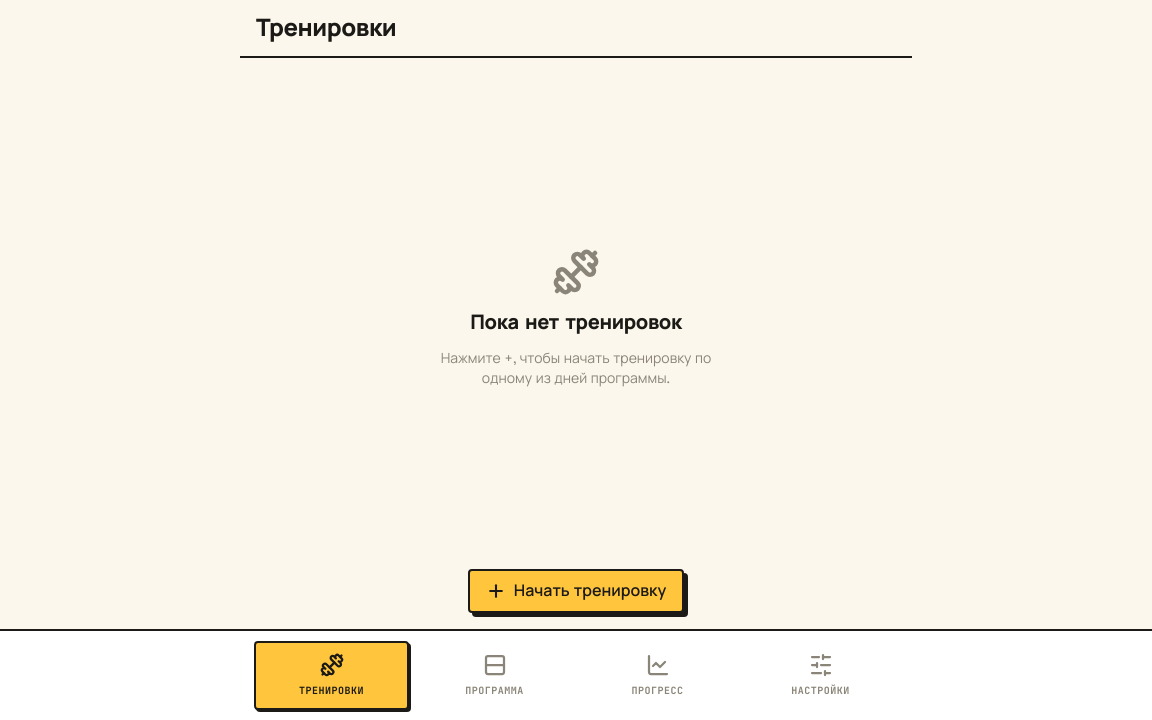
Test: Inline workout loop › reopening a finished workout offers Continue instead of Finish
Click the button "Начать тренировку" at (576, 591), box [468,569,684,613]
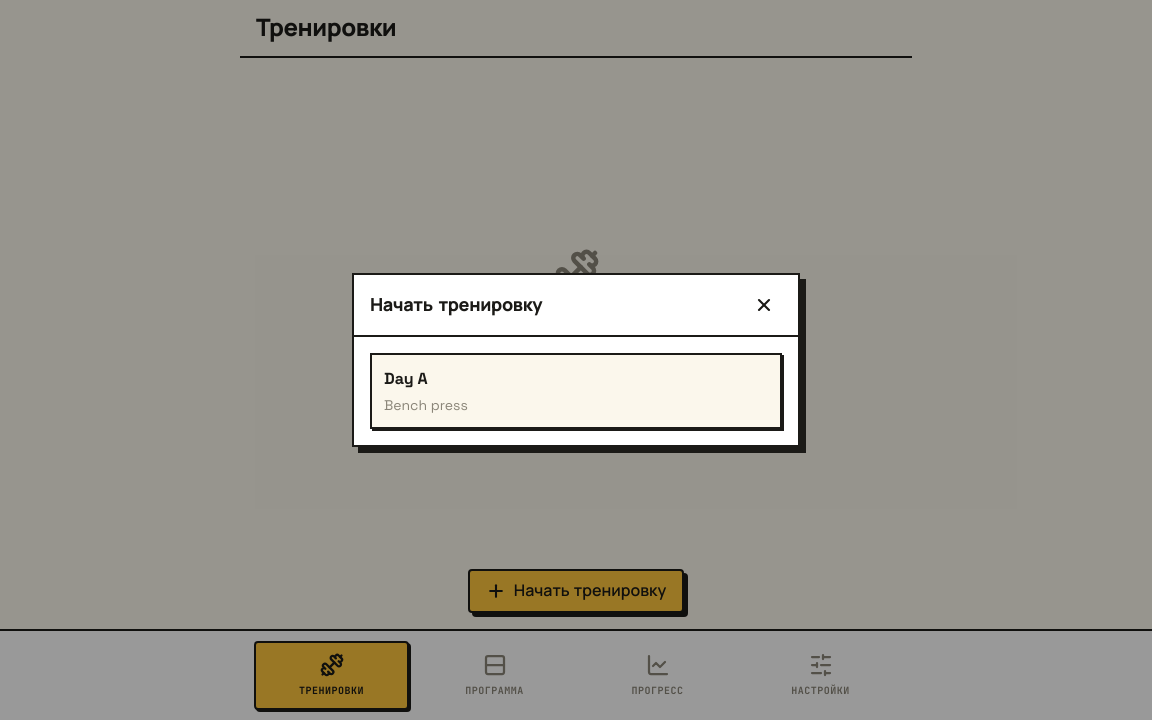
Click the button "Day A Bench press" at (406, 378), box [370,353,782,429]
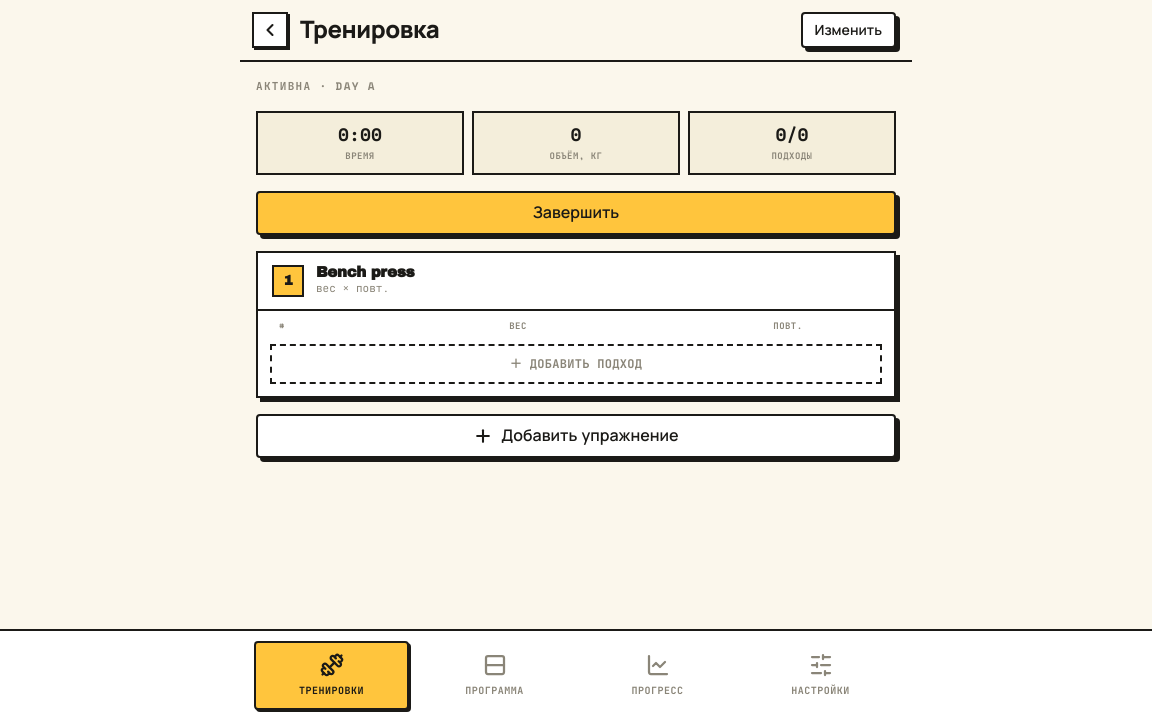
Click the button "Завершить" at (576, 212), box [256,190,896,234]
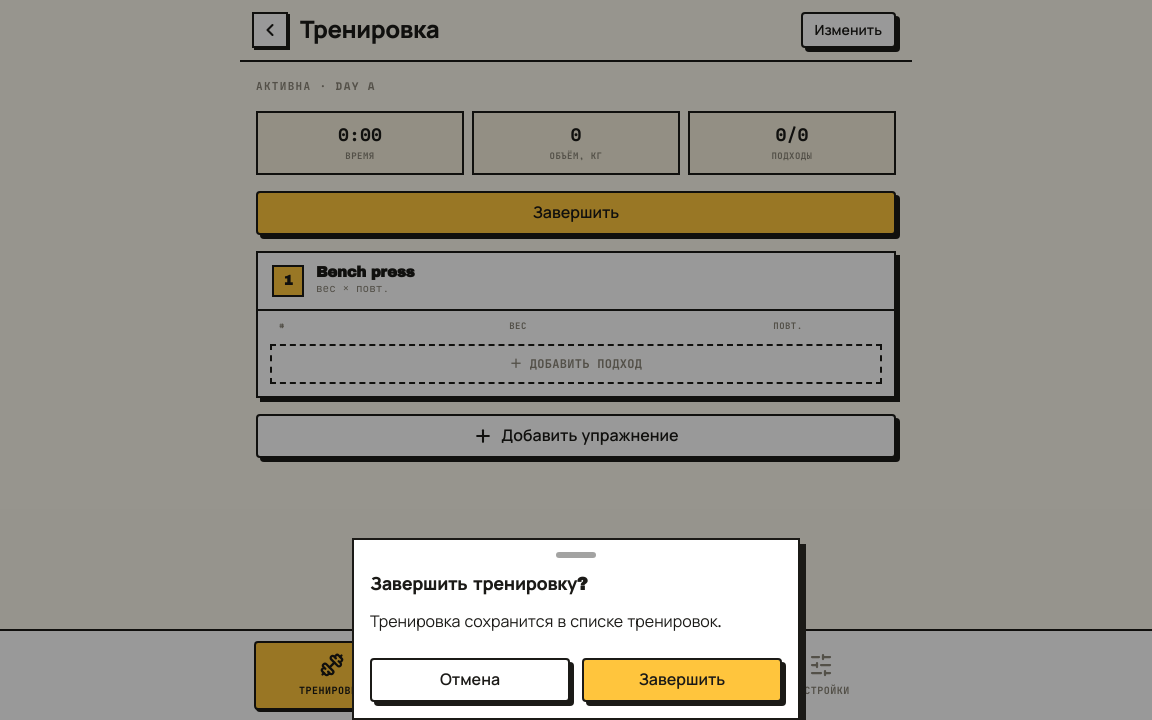
Click the button "Завершить" at (682, 680), box [582,658,782,702]
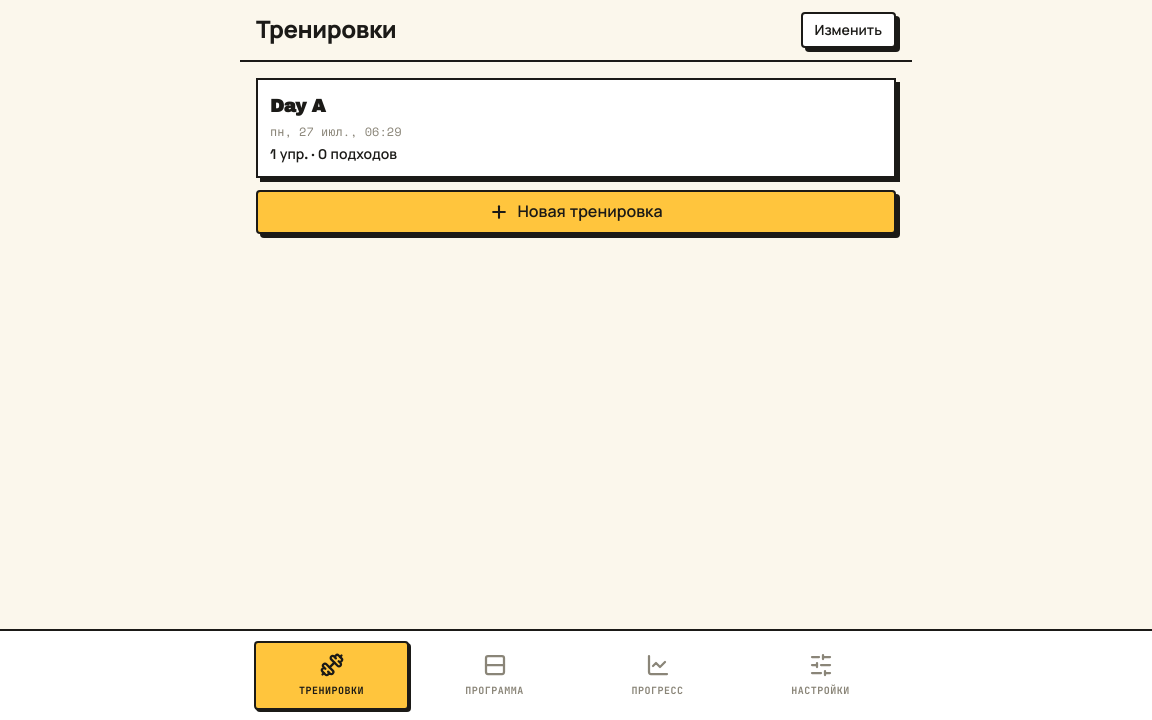
Reopen the now-finished workout from the list.
Click the link "Day A" at (298, 106), box [256,78,896,178]
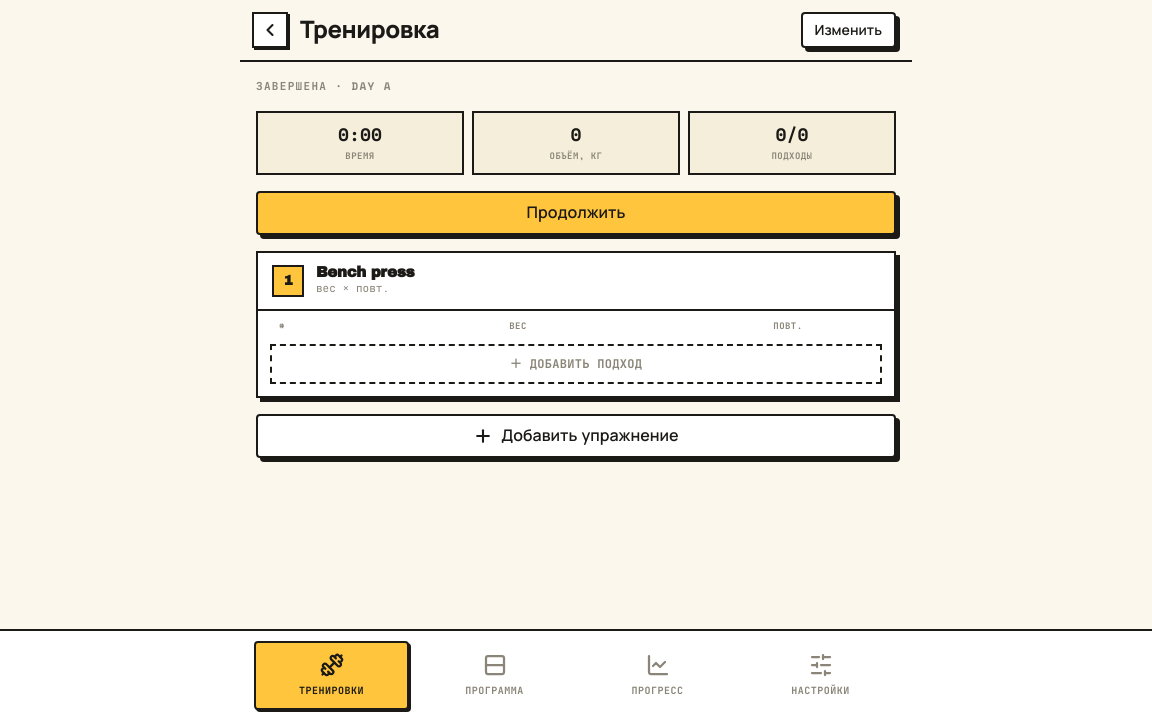
Expected: the button "Завершить" is not shown
Result: the text "Завершена · Day A" is shown at [256,78,392,94]
Continue reactivates it.
Click the button "Продолжить" at (576, 212), box [256,190,896,234]
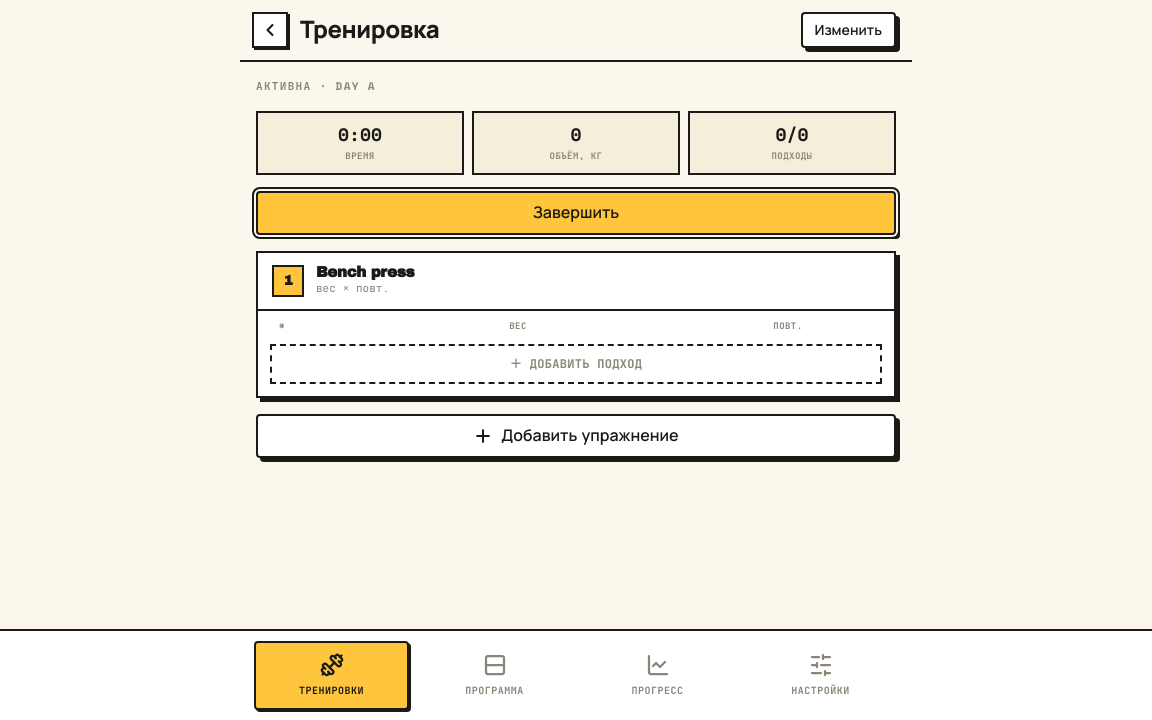
Result: the text "Активна · Day A" is shown at [256,78,376,94]
Result: the button "Завершить" is shown at [256,190,896,234]
